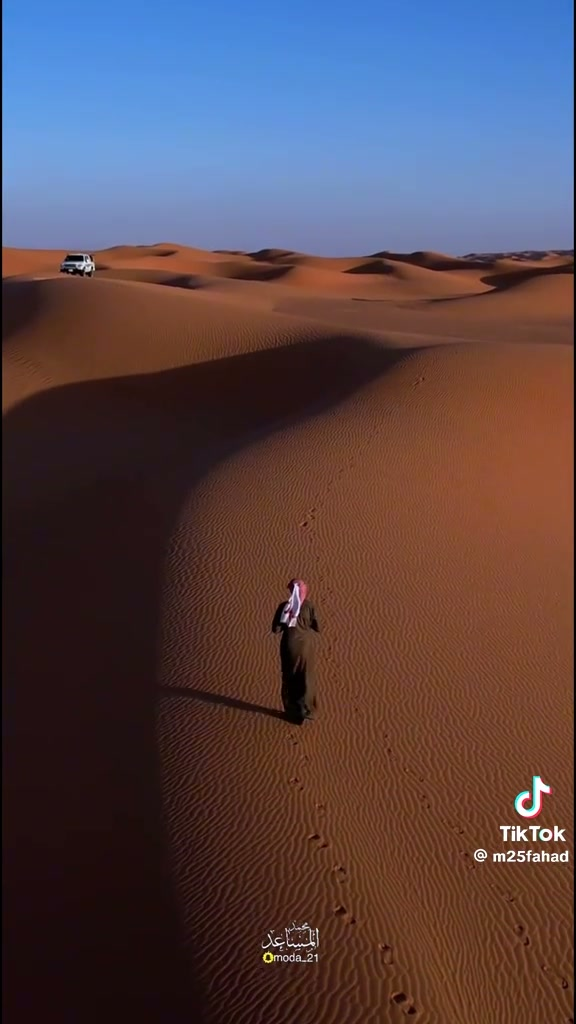human_footprint: (272, 579, 319, 723), (540, 963, 568, 989), (390, 992, 416, 1016), (334, 904, 355, 924), (299, 506, 316, 528), (378, 943, 394, 966), (514, 923, 529, 946), (308, 832, 328, 848), (332, 865, 346, 882), (288, 776, 303, 790)
